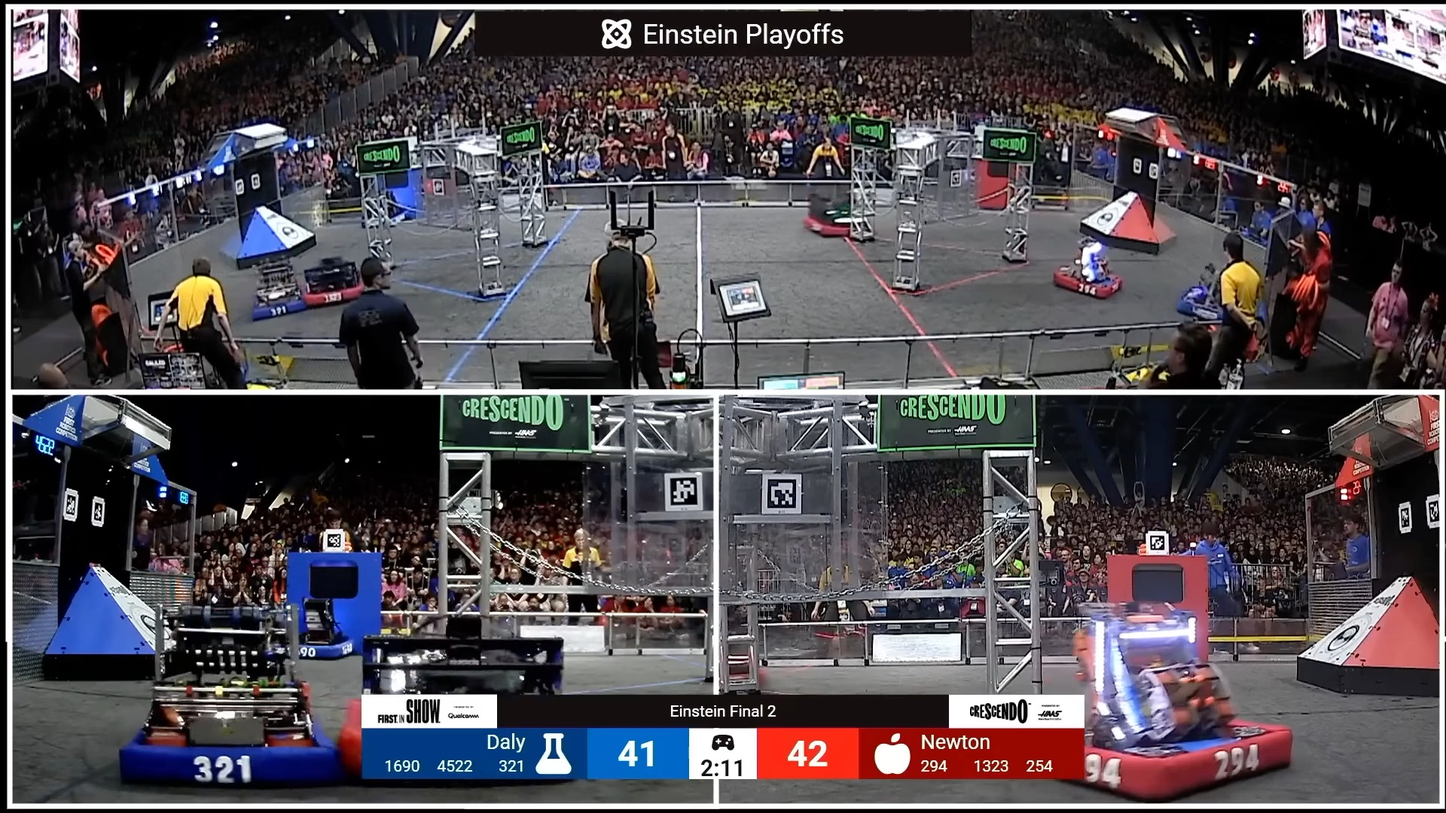bumpers: (1068, 719, 1298, 801), (113, 726, 357, 793), (1174, 286, 1276, 326), (1051, 267, 1132, 305), (277, 633, 373, 663), (293, 276, 375, 310), (243, 290, 318, 325), (798, 211, 873, 242)
